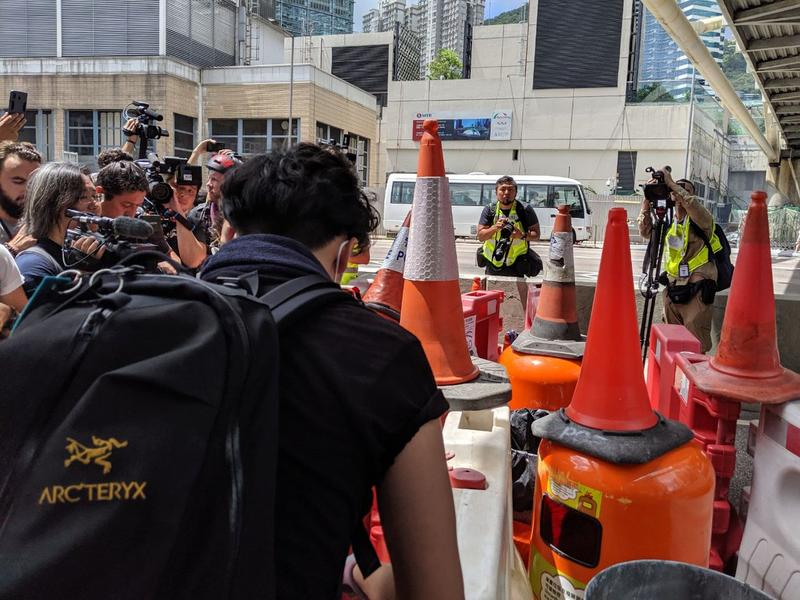Cone: (530, 206, 695, 465), (681, 190, 799, 406)
